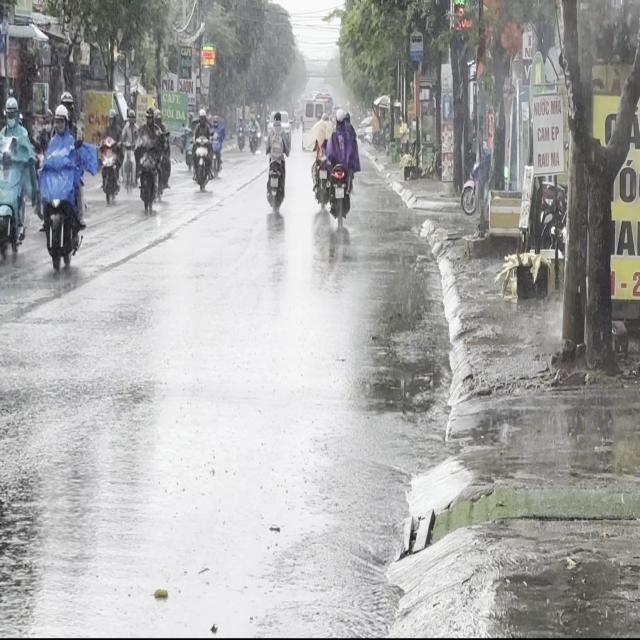helmet: (53, 104, 68, 132), (4, 95, 18, 122)
licenseplate: (38, 101, 86, 272), (0, 94, 34, 262)
